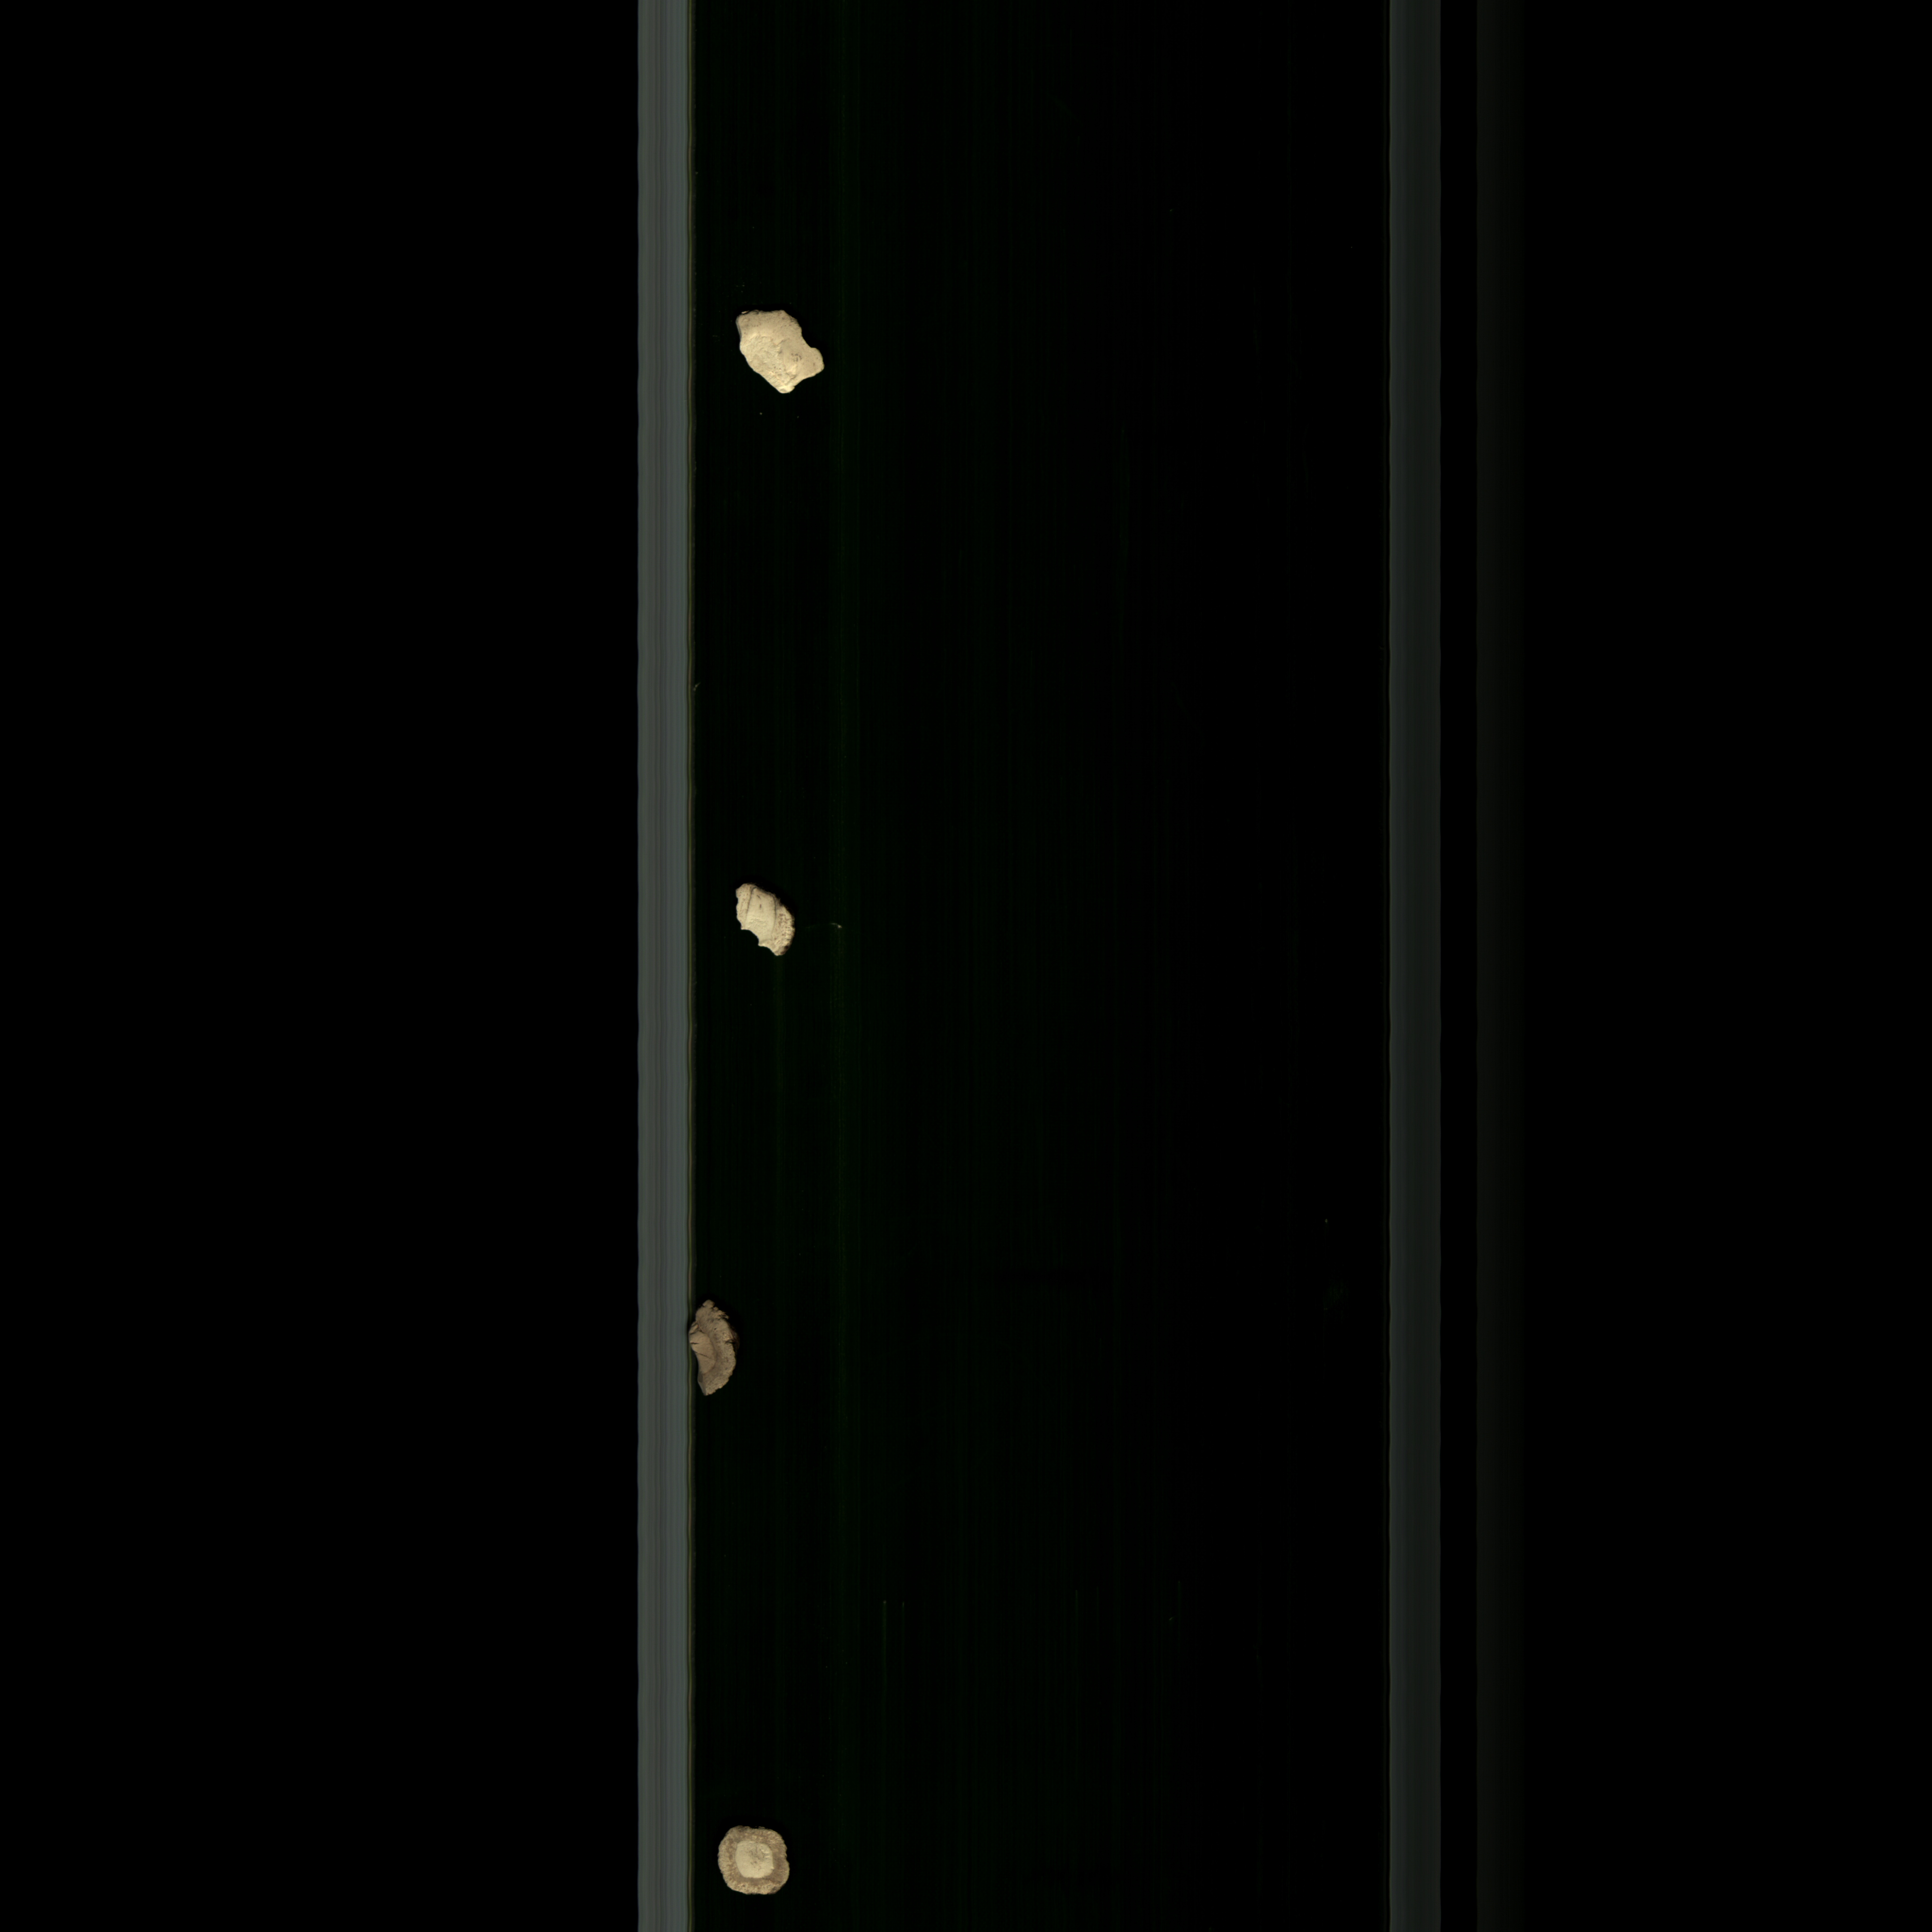debris: (727, 301, 830, 400), (727, 881, 801, 964)
moldy: (708, 1813, 805, 1900), (683, 1295, 754, 1407)
